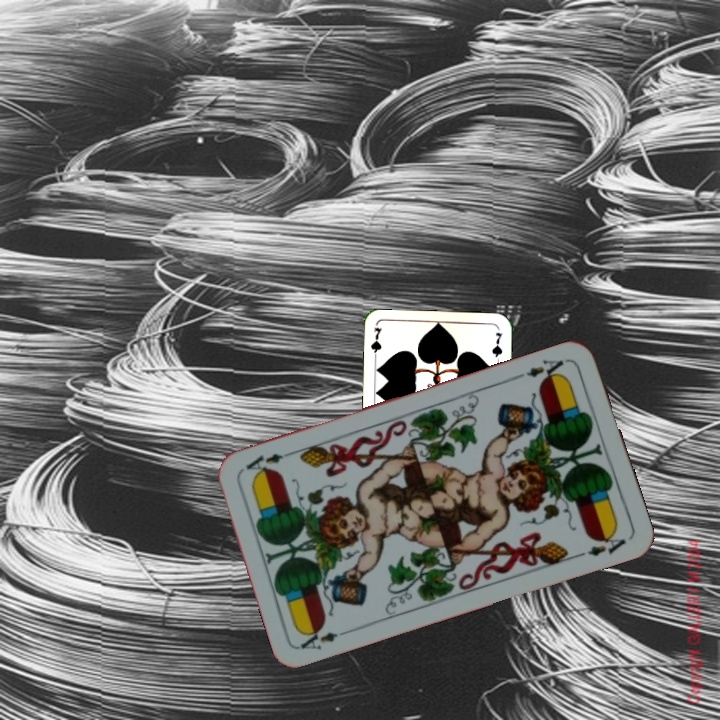EA: (296, 623, 354, 653), (514, 355, 566, 385)
G7: (367, 324, 384, 365)
